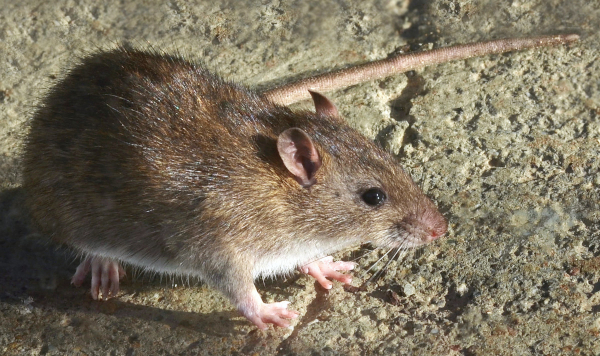rat: (17, 37, 459, 331)
